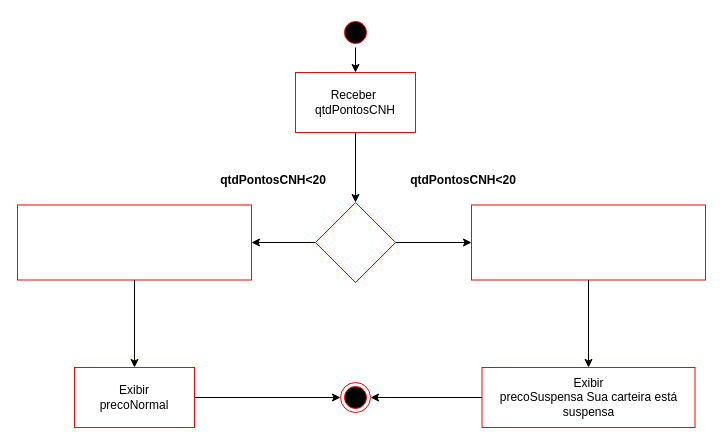
This 723x445 diagram has some shape labels left out. Here are the shapes that lost their labels. From the top down, the box of each, then its label:
(16, 204, 252, 280): Calcular precoNormal=qtdPontosCNH * 78
(470, 204, 706, 280): Calcular precoSuspensa=qtdPontosCNH * 87
